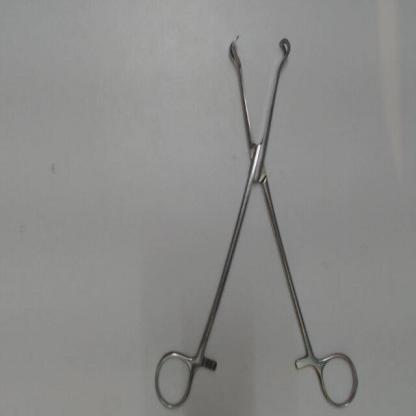8 Babcock Tissue Forceps: (149, 27, 366, 412)
